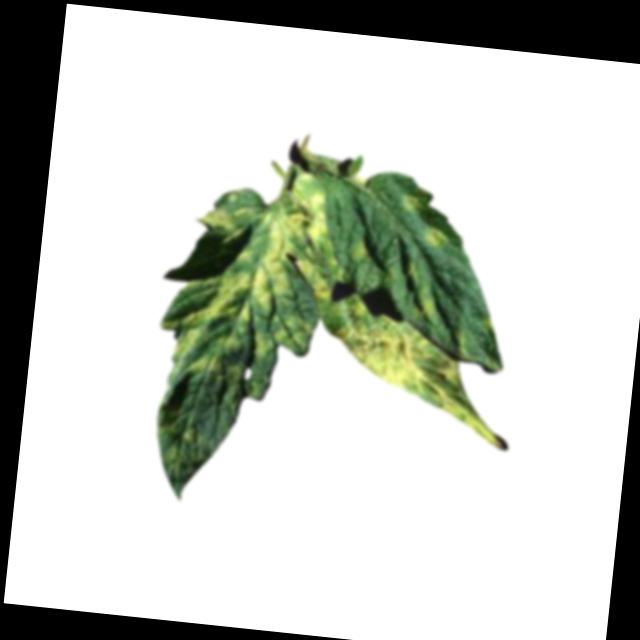Leaf_Mold: (154, 160, 343, 389), (322, 311, 536, 448), (195, 204, 239, 234), (420, 227, 452, 252), (345, 235, 371, 265), (398, 193, 419, 211)
